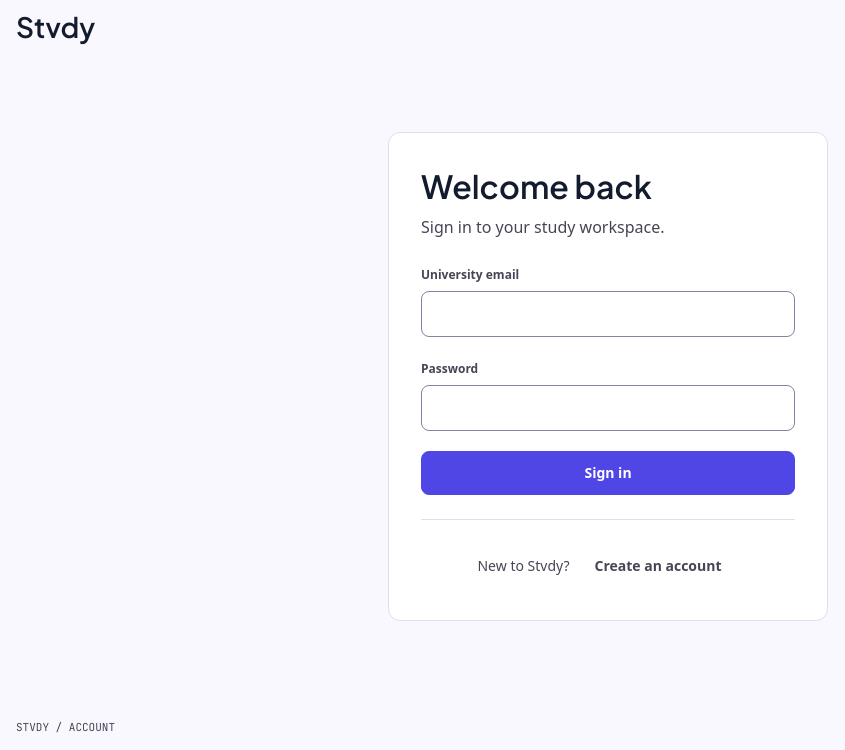
Scenario: signing in › shows a wrong password as a failure rather than as a broken app
Step 1. Type "student@example.com" into the field labelled "University email" → [608, 314], box [421,290,795,336]
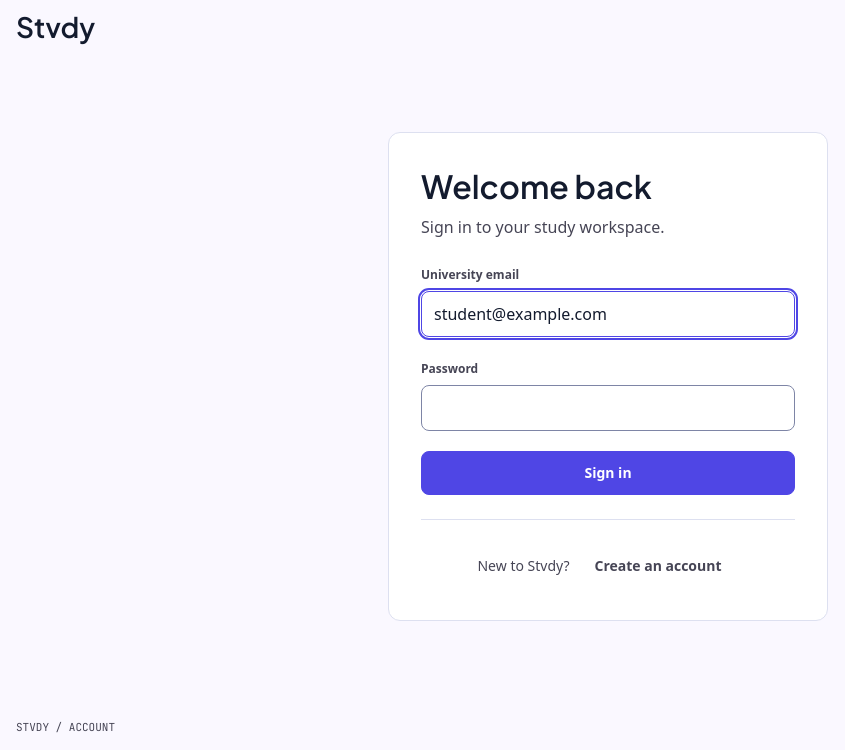
Step 2. Type "wrong" into the password field labelled "Password" → [608, 408], box [421,384,795,430]
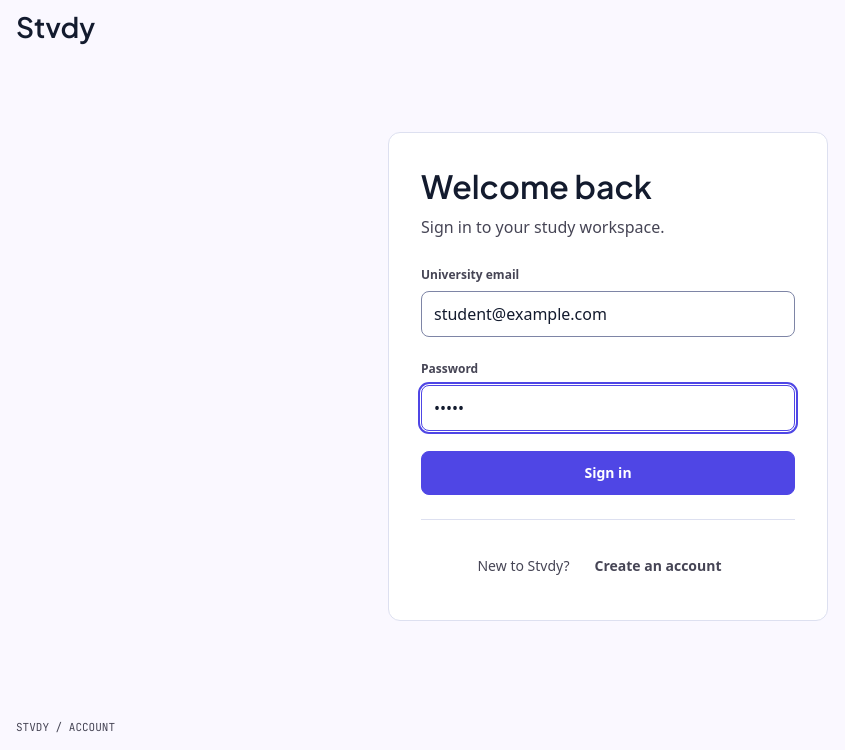
Step 3. Click the button "Sign in" → [608, 472], box [421,450,795,494]
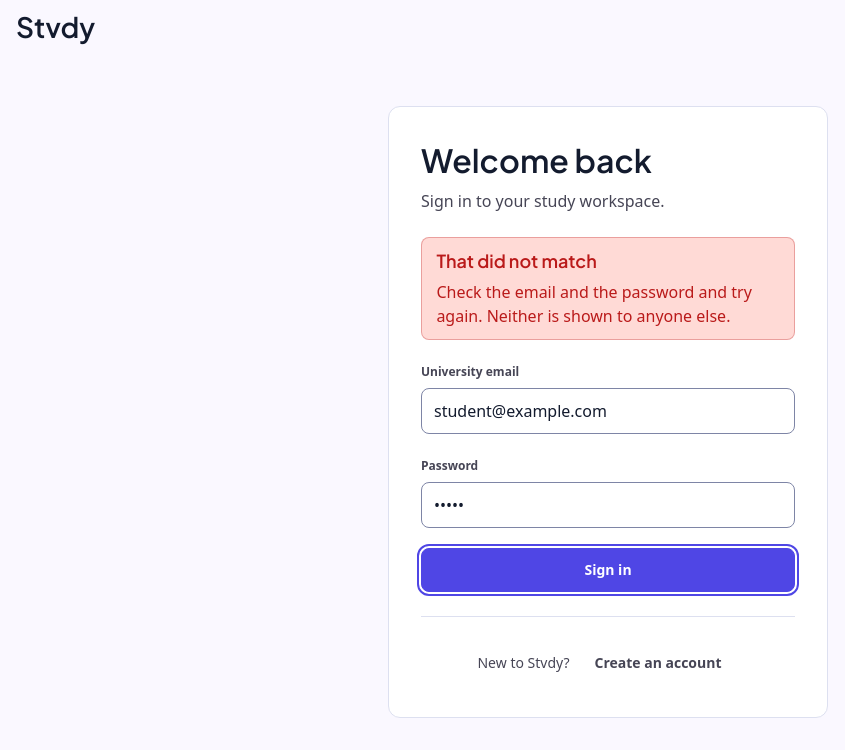
Now the text "That did not match" is shown, box [436,249,597,272]
Now the message shows "Check the email and the password and try again.", box [436,281,752,327]
